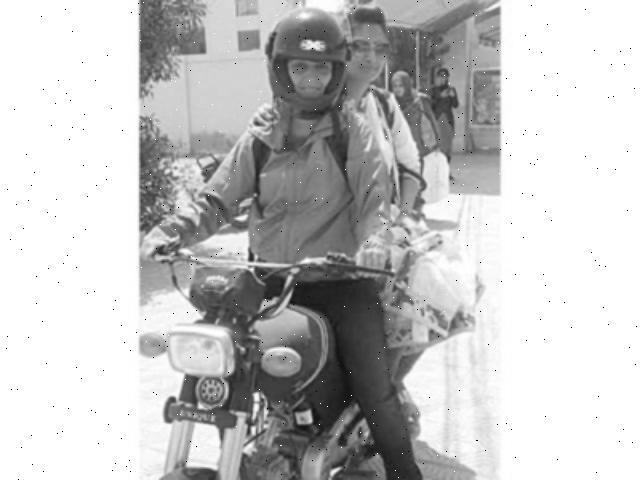With Helmet: (258, 7, 356, 115)
Without Helmet: (340, 2, 388, 88)
